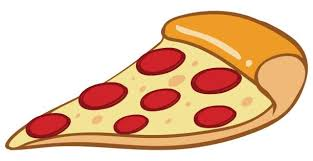pizza: (9, 6, 306, 151)
